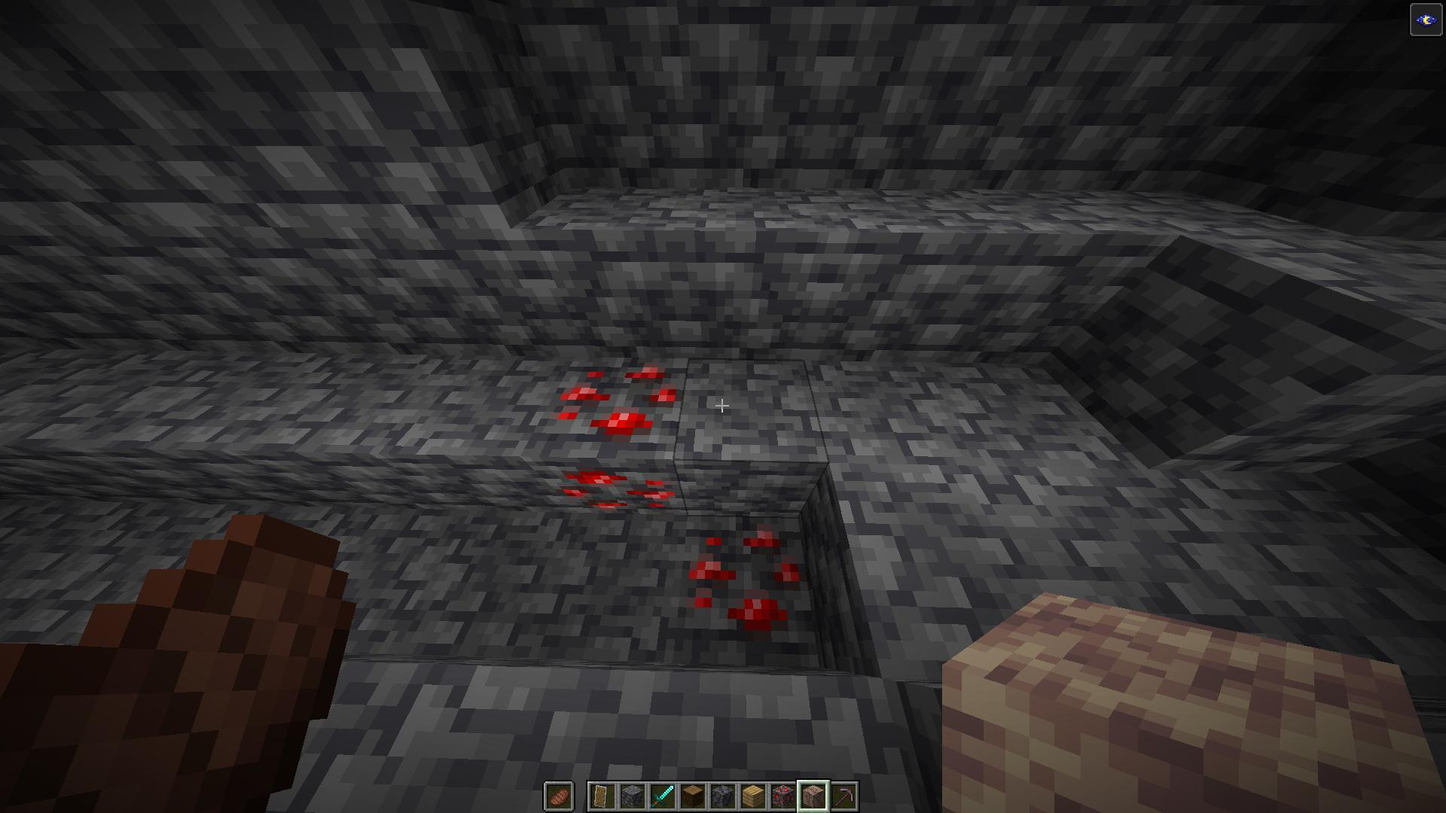redstone ore: (690, 525, 814, 644), (563, 359, 680, 443), (559, 462, 682, 515)
